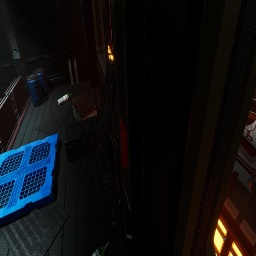0: (92, 242, 109, 256), (58, 93, 72, 106)
FireAlarm ,: (117, 118, 128, 168)
